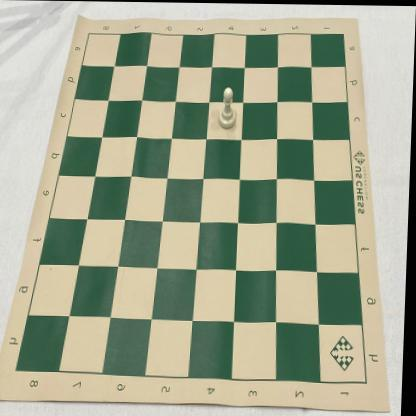white-pawn: (218, 86, 239, 130)
